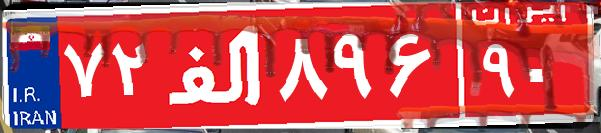0: (525, 38, 570, 115)
2: (110, 28, 158, 105)
6: (385, 28, 445, 110)
7: (57, 26, 110, 107)
8: (273, 28, 330, 110)
9: (330, 28, 385, 110), (475, 38, 525, 113)
الف: (158, 15, 273, 115)
